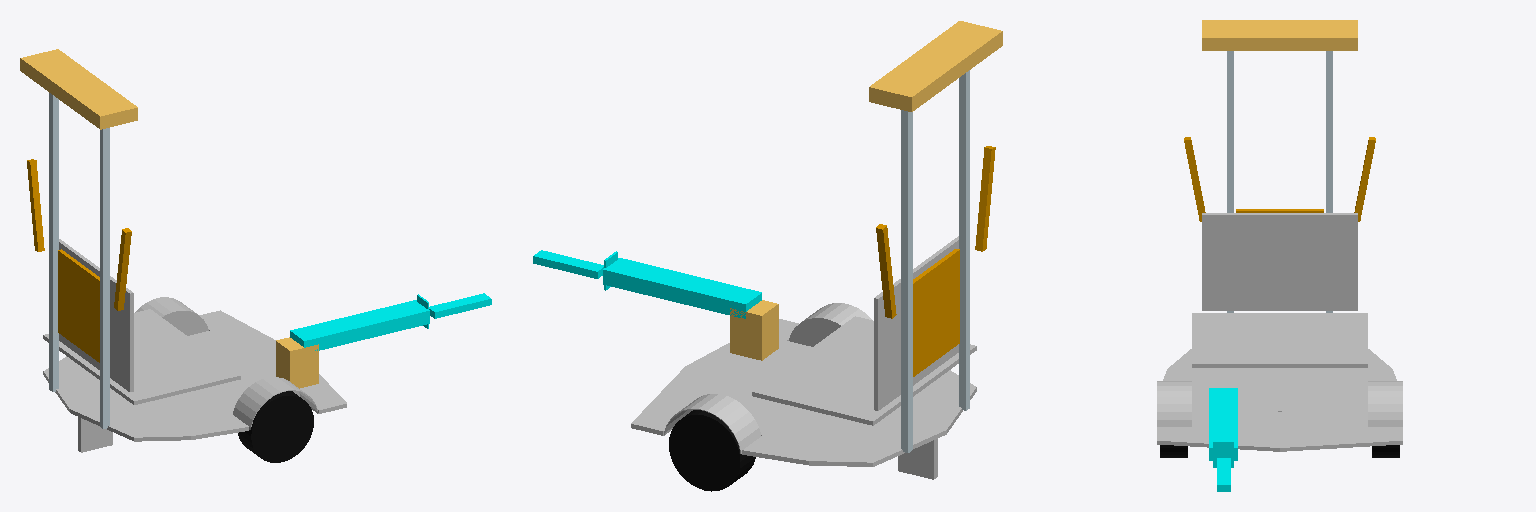
robot.urdf — robik:
<?xml version="1.0" encoding="utf-8"?>
<!-- =================================================================================== -->
<!-- |    This document was autogenerated by xacro from [local-path]/workspace/src/robik_description/urdf/robik.urdf.xacro | -->
<!-- |    EDITING THIS FILE BY HAND IS NOT RECOMMENDED                                 | -->
<!-- =================================================================================== -->
<!-- (x/red +dopredu -dozadu) (y/green -levo +vpravo) (z/blue -dolu +nahoru) -->
<robot name="robik">
  <!-- materials -->
  <material name="clear_plastic">
    <color rgba="0.81 0.81 0.81 0.5"/>
  </material>
  <material name="alum">
    <color rgba="0.81 0.88 0.91 1"/>
  </material>
  <material name="wood">
    <color rgba="1 0.81 0.4 1"/>
  </material>
  <material name="jetson">
    <texture filename="package://robik_description/materials/jetson.jpg"/>
  </material>
  <!-- base -->
  <link name="base_link">
    <visual name="base">
      <origin rpy="0 0 0" xyz="0 0 0.065"/>
      <geometry>
        <mesh filename="package://robik_description/meshes/base-binary.stl" scale="1.0 1.0 1.0"/>
      </geometry>
      <material name="clear_plastic"/>
    </visual>
    <collision>
      <origin rpy="0 0 0" xyz="-0.06 0 0.065"/>
      <geometry>
        <box size="0.365 0.352 0.006"/>
      </geometry>
    </collision>
    <collision>
      <origin rpy="0 0 0" xyz="0.115 0 0.071"/>
      <geometry>
        <box size="0.01 0.352 0.01"/>
      </geometry>
    </collision>
    <visual name="caster">
      <origin rpy="0 0 0" xyz="-0.20 0 0.0325"/>
      <geometry>
        <box size="0.05 0.01 0.065"/>
      </geometry>
      <material name="clear_plastic"/>
    </visual>
    <collision>
      <origin rpy="0 0 0" xyz="-0.20 0 0.0325"/>
      <geometry>
        <box size="0.05 0.01 0.065"/>
      </geometry>
    </collision>
    <visual name="{$name_tmpl}_visual">
      <origin rpy="0 0 0" xyz="-0.225 0.07 0.3075"/>
      <geometry>
        <box size="0.01 0.01 0.485"/>
      </geometry>
      <material name="alum"/>
    </visual>
    <collision>
      <origin rpy="0 0 0" xyz="-0.225 0.07 0.3075"/>
      <geometry>
        <box size="0.01 0.01 0.485"/>
      </geometry>
    </collision>
    <visual name="{$name_tmpl}_visual">
      <origin rpy="0 0 0" xyz="-0.225 -0.07 0.3075"/>
      <geometry>
        <box size="0.01 0.01 0.485"/>
      </geometry>
      <material name="alum"/>
    </visual>
    <collision>
      <origin rpy="0 0 0" xyz="-0.225 -0.07 0.3075"/>
      <geometry>
        <box size="0.01 0.01 0.485"/>
      </geometry>
    </collision>
    <visual name="head_base">
      <origin rpy="0 0 0" xyz="-0.225 0 0.55"/>
      <geometry>
        <box size="0.06 0.22 0.02"/>
      </geometry>
      <material name="wood"/>
    </visual>
    <collision>
      <origin rpy="0 0 0" xyz="-0.225 0 0.55"/>
      <geometry>
        <box size="0.06 0.22 0.02"/>
      </geometry>
    </collision>
    <visual name="jetson">
      <origin rpy="0 0 0" xyz="-0.22 0 0.2175"/>
      <geometry>
        <box size="0.006 0.125 0.125"/>
      </geometry>
      <material name="jetson"/>
    </visual>
    <collision>
      <origin rpy="0 0 0" xyz="-0.22 0 0.2175"/>
      <geometry>
        <box size="0.006 0.125 0.125"/>
      </geometry>
    </collision>
    <visual name="jetson_cover">
      <origin rpy="0 0 0" xyz="-0.205 0 0.205"/>
      <geometry>
        <box size="0.006 0.22 0.15"/>
      </geometry>
      <material name="clear_plastic"/>
    </visual>
    <collision>
      <origin rpy="0 0 0" xyz="-0.205 0 0.205"/>
      <geometry>
        <box size="0.006 0.22 0.15"/>
      </geometry>
    </collision>
    <visual name="arduino_cover">
      <origin rpy="0 0 0" xyz="-0.125 0 0.12"/>
      <geometry>
        <box size="0.17 0.25 0.006"/>
      </geometry>
      <material name="clear_plastic"/>
    </visual>
    <collision>
      <origin rpy="0 0 0" xyz="-0.125 0 0.12"/>
      <geometry>
        <box size="0.17 0.25 0.006"/>
      </geometry>
    </collision>
    <visual name="{$name_tmpl}_visual">
      <origin rpy="-0.1745 0 0" xyz="-0.225 0.12 0.325"/>
      <geometry>
        <box size="0.01 0.01 0.13"/>
      </geometry>
      <material name="wheel"/>
    </visual>
    <collision>
      <origin rpy="-0.1745 0 0" xyz="-0.225 0.12 0.325"/>
      <geometry>
        <box size="0.01 0.01 0.13"/>
      </geometry>
    </collision>
    <visual name="{$name_tmpl}_visual">
      <origin rpy="0.1745 0 0" xyz="-0.225 -0.12 0.325"/>
      <geometry>
        <box size="0.01 0.01 0.13"/>
      </geometry>
      <material name="wheel"/>
    </visual>
    <collision>
      <origin rpy="0.1745 0 0" xyz="-0.225 -0.12 0.325"/>
      <geometry>
        <box size="0.01 0.01 0.13"/>
      </geometry>
    </collision>
  </link>
  <!--
	<link name="base_footprint" />
	<link name="base_stabilized" />

	<joint name="base_footprint_joint" type="fixed">
		<origin xyz="0 0 0" rpy="0 0 0" />
		<parent link="base_footprint"/>
		<child link="base_stabilized"/>
	</joint>

	<joint name="base_stabilized_joint" type="fixed">
		<origin xyz="0 0 0" rpy="0 0 0" />
		<parent link="base_stabilized"/>
		<child link="base_link"/>
	</joint>
-->
  <link name="left_wheel">
    <visual>
      <origin rpy="0 1.57079632679 1.57079632679" xyz="0 0 0"/>
      <geometry>
        <cylinder length="0.04" radius="0.05"/>
      </geometry>
      <material name="black_wheel">
        <color rgba="0.1 0.1 0.1 1"/>
      </material>
    </visual>
  </link>
  <link name="right_wheel">
    <visual>
      <origin rpy="0 1.57079632679 1.57079632679" xyz="0 0 0"/>
      <geometry>
        <cylinder length="0.04" radius="0.05"/>
      </geometry>
      <material name="black_wheel">
        <color rgba="0.1 0.1 0.1 1"/>
      </material>
    </visual>
  </link>
  <joint name="wheel_left_joint" type="continuous">
    <origin rpy="0 0 0" xyz="0 0.15 0.05"/>
    <parent link="base_link"/>
    <child link="left_wheel"/>
  </joint>
  <joint name="wheel_right_joint" type="continuous">
    <origin rpy="0 0 0" xyz="0 -0.15 0.05"/>
    <parent link="base_link"/>
    <child link="right_wheel"/>
  </joint>
  <!--  <xacro:include filename="$(find robik_description)/urdf/kinect_gazebo.urdf.xacro"/> -->
  <joint name="camera_rgb_joint" type="fixed">
    <origin rpy="0 0.262 0" xyz="-0.19 0 0.59"/>
    <parent link="base_link"/>
    <child link="camera_rgb_frame"/>
  </joint>
  <link name="camera_rgb_frame">
    <inertial>
      <mass value="0.001"/>
      <origin xyz="0 0 0"/>
      <inertia ixx="0.0001" ixy="0.0" ixz="0.0" iyy="0.0001" iyz="0.0" izz="0.0001"/>
    </inertial>
  </link>
  <joint name="camera_rgb_optical_joint" type="fixed">
    <origin rpy="-1.57079632679 0 -1.57079632679" xyz="0 0 0"/>
    <parent link="camera_rgb_frame"/>
    <child link="camera_rgb_optical_frame"/>
  </joint>
  <link name="camera_rgb_optical_frame">
    <inertial>
      <mass value="0.001"/>
      <origin xyz="0 0 0"/>
      <inertia ixx="0.0001" ixy="0.0" ixz="0.0" iyy="0.0001" iyz="0.0" izz="0.0001"/>
    </inertial>
  </link>
  <joint name="camera_joint" type="fixed">
    <origin rpy="0 0 0" xyz="-0.031 0 -0.016"/>
    <parent link="camera_rgb_frame"/>
    <child link="camera_link"/>
  </joint>
  <link name="camera_link">
    <visual>
      <origin rpy="0 0 1.57079632679" xyz="0 0 0"/>
      <geometry>
        <mesh filename="package://robik/model/v3/meshes/kinect.dae"/>
      </geometry>
    </visual>
    <collision>
      <origin rpy="0 0 0" xyz="0.0 0.0 0.0"/>
      <geometry>
        <box size="0.07271 0.27794 0.073"/>
      </geometry>
    </collision>
    <inertial>
      <mass value="0.001"/>
      <origin xyz="0 0 0"/>
      <inertia ixx="0.0001" ixy="0.0" ixz="0.0" iyy="0.0001" iyz="0.0" izz="0.0001"/>
    </inertial>
  </link>
  <!-- The fixed joints & links below are usually published by static_transformers launched by the OpenNi launch
          files. However, for Gazebo simulation we need them, so we add them here.
          (Hence, don't publish them additionally!) -->
  <joint name="camera_depth_joint" type="fixed">
    <origin rpy="0 0 0" xyz="0 0 0"/>
    <parent link="camera_rgb_frame"/>
    <child link="camera_depth_frame"/>
  </joint>
  <link name="camera_depth_frame">
    <inertial>
      <mass value="0.001"/>
      <origin xyz="0 0 0"/>
      <inertia ixx="0.0001" ixy="0.0" ixz="0.0" iyy="0.0001" iyz="0.0" izz="0.0001"/>
    </inertial>
  </link>
  <joint name="camera_depth_optical_joint" type="fixed">
    <origin rpy="-1.57079632679 0 -1.57079632679" xyz="0 0 0"/>
    <parent link="camera_depth_frame"/>
    <child link="camera_depth_optical_frame"/>
  </joint>
  <link name="camera_depth_optical_frame">
    <inertial>
      <mass value="0.001"/>
      <origin xyz="0 0 0"/>
      <inertia ixx="0.0001" ixy="0.0" ixz="0.0" iyy="0.0001" iyz="0.0" izz="0.0001"/>
    </inertial>
  </link>
  <!-- Kinect sensor for simulation -->
  <turtlebot_sim_3dsensor/>
  <link name="base_scan_link"/>
  <joint name="base_scan_joint" type="fixed">
    <parent link="base_link"/>
    <child link="base_scan_link"/>
    <origin rpy="0 0 0" xyz="-0.15 0 0.15"/>
  </joint>
  <!-- arm -->
  <link name="yaw_link">
    <visual>
      <origin rpy="0 0 0" xyz="0 0 0.03"/>
      <geometry>
        <box size="0.045 0.04 0.06"/>
      </geometry>
      <material name="wood"/>
    </visual>
  </link>
  <joint name="yaw_joint" type="revolute">
    <parent link="base_link"/>
    <child link="yaw_link"/>
    <origin rpy="0 0 0" xyz="0.075 -0.08 0.068"/>
    <axis xyz="0 0 -1"/>
    <limit effort="1000" lower="-1.8675023" upper="1.099557429" velocity="1"/>
  </joint>
  <link name="shoulder_link">
    <visual>
      <origin rpy="0 0 0" xyz="0 0.0675 0"/>
      <geometry>
        <box size="0.04 0.135 0.02"/>
      </geometry>
      <material name="wood">
        <color rgba="0 1.0 1.0 1.0"/>
      </material>
    </visual>
  </link>
  <joint name="shoulder_joint" type="revolute">
    <parent link="yaw_link"/>
    <child link="shoulder_link"/>
    <origin rpy="0 0 -1.570796327" xyz="0.0 0 0.06"/>
    <axis xyz="1 0 0"/>
    <limit effort="1000" lower="0" upper="2.094395102" velocity="1"/>
  </joint>
  <link name="elbow_link">
    <visual>
      <origin rpy="0 0 0" xyz="0 0.0325 0"/>
      <geometry>
        <box size="0.04 0.065 0.02"/>
      </geometry>
      <material name="wood">
        <color rgba="0 1.0 1.0 1.0"/>
      </material>
    </visual>
  </link>
  <joint name="elbow_joint" type="revolute">
    <parent link="shoulder_link"/>
    <child link="elbow_link"/>
    <origin rpy="0 0 0" xyz="0 0.135 0"/>
    <axis xyz="1 0 0"/>
    <limit effort="1000" lower="-1.919862177" upper="0.6981317008" velocity="1"/>
  </joint>
  <link name="roll_link">
    <visual>
      <geometry>
        <box size="0.03 0.003 0.04"/>
      </geometry>
      <material name="wood">
        <color rgba="0 1.0 1.0 1.0"/>
      </material>
    </visual>
  </link>
  <joint name="roll_joint" type="revolute">
    <parent link="elbow_link"/>
    <child link="roll_link"/>
    <origin rpy="0 0 0" xyz="0 0.065 0"/>
    <axis xyz="0 1 0"/>
    <limit effort="1000" lower="-1.570796327" upper="1.570796327" velocity="1"/>
  </joint>
  <link name="clamp_link">
    <visual>
      <origin rpy="0 0 0" xyz="0 0.057 0"/>
      <geometry>
        <box size="0.02 0.09 0.01"/>
      </geometry>
      <material name="alum">
        <color rgba="0 1.0 1.0 1.0"/>
      </material>
    </visual>
  </link>
  <joint name="clamp_joint" type="revolute">
    <parent link="roll_link"/>
    <child link="clamp_link"/>
    <origin rpy="0 0 0" xyz="0 0.001 -0.005"/>
    <axis xyz="-1 0 0"/>
    <limit effort="1000" lower="0" upper="0.6981317008" velocity="1"/>
    <!--<mimic joint="clamp_joint" multiplier="-1" offset="0"/>-->
  </joint>
</robot>

--- What the picture shows (computed from the rendered views, not written in the file) ---
Views: 3 orthographic renders of the robot side by side, from view 1: azimuth 30°, elevation 25°; view 2: azimuth 150°, elevation 25°; view 3: azimuth 270°, elevation 25°.
Model robik with 14 links and 13 joints (5 revolute, 2 continuous, 6 fixed), rooted at base_link, posed all joints at 0.
Links seen in each view (by area): view 1: base_link, right_wheel, shoulder_link, yaw_link, elbow_link, clamp_link; view 2: base_link, left_wheel, shoulder_link, yaw_link, elbow_link, clamp_link; view 3: base_link, shoulder_link.
Link boxes in pixels (bbox=[...]): base_link: bbox=[20, 49, 346, 452]; right_wheel: bbox=[238, 391, 313, 462]; shoulder_link: bbox=[290, 310, 388, 350]; yaw_link: bbox=[276, 337, 318, 388]; elbow_link: bbox=[376, 300, 429, 333]; clamp_link: bbox=[429, 293, 491, 318]; base_link: bbox=[631, 21, 1002, 479]; left_wheel: bbox=[669, 410, 755, 491]; shoulder_link: bbox=[649, 269, 761, 318]; yaw_link: bbox=[730, 300, 778, 360]; elbow_link: bbox=[603, 258, 664, 295]; clamp_link: bbox=[533, 250, 603, 278]; base_link: bbox=[1157, 20, 1402, 451]; shoulder_link: bbox=[1209, 388, 1237, 428].
Size in the robot's own frame: 0.633 by 0.35 by 0.56 metres.
Meshes: 2 distinct files referenced, 1 mesh visuals loaded (1 binary STL); not drawn: 1 (reference not matched to a file when rendering).
